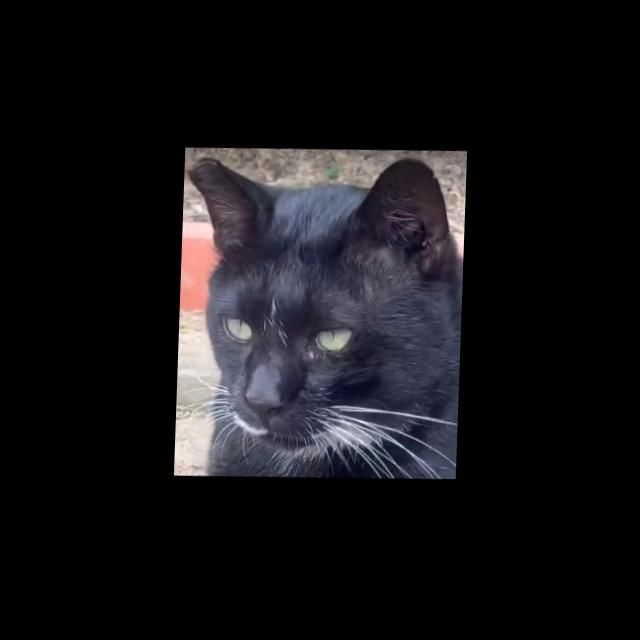animals: (176, 148, 467, 470)
